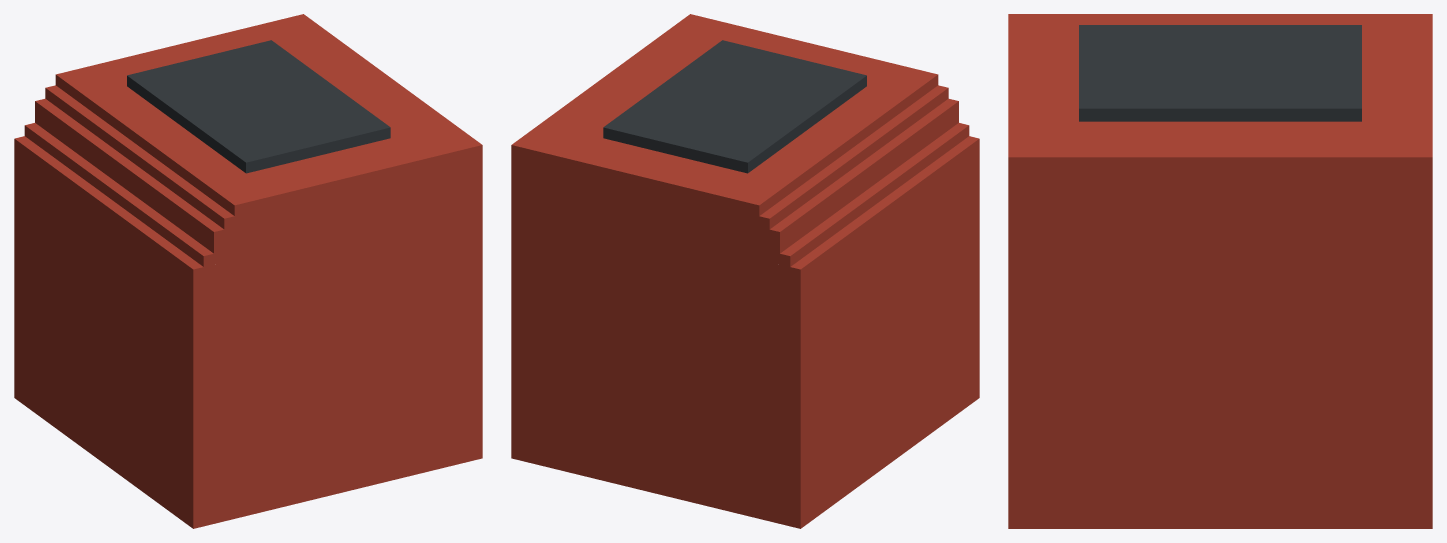
The model's file is skid_steer_engine_cover.glb.
3 renders of one model, left to right at view 1: azimuth 30°, elevation 25°; view 2: azimuth 150°, elevation 25°; view 3: azimuth 270°, elevation 25°, orthographic. The views are drawn at different scales.
Parts seen in each view (by area): view 1: body:compound; view 2: body:compound; view 3: body:compound.
Boxes of the visible parts, box(x1,y1,x2,y2) form: body:compound: box(14, 14, 482, 528); body:compound: box(511, 14, 979, 528); body:compound: box(1008, 14, 1432, 528).
Size of the model in its own units: 0.875 by 0.9375 by 0.9375.
